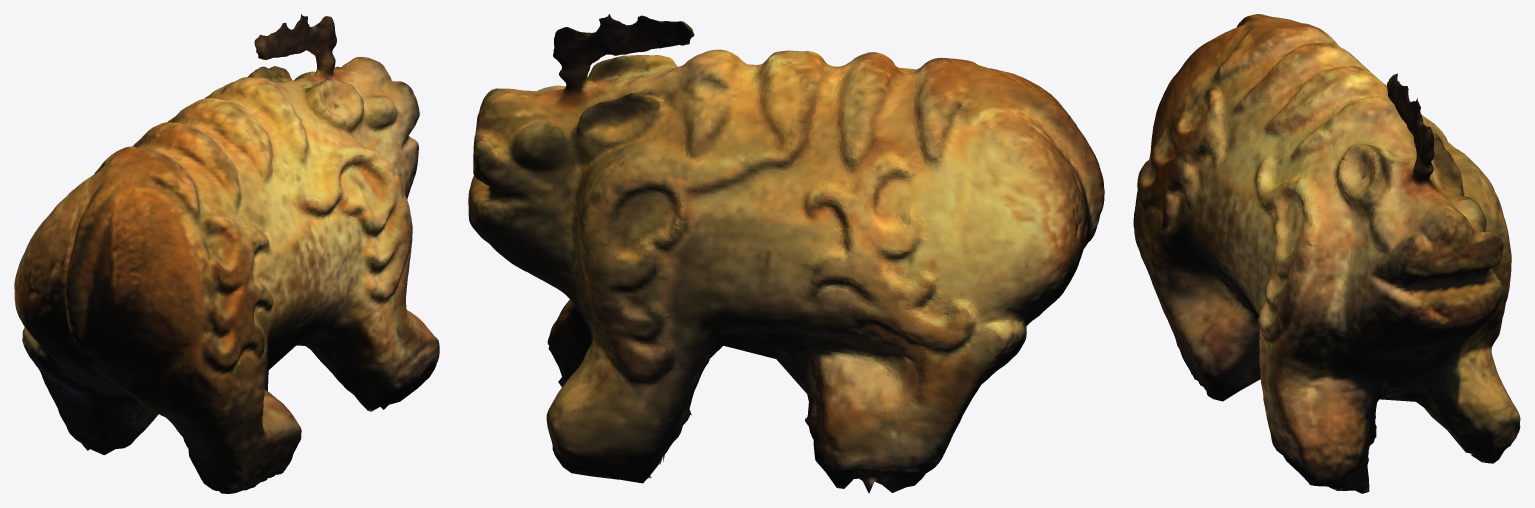
File: animal.glb
3 renders of one model, left to right at view 1: azimuth 30°, elevation 25°; view 2: azimuth 150°, elevation 25°; view 3: azimuth 270°, elevation 25°, orthographic. The views are drawn at different scales.
Visible parts, largest first — view 1: texturedMesh; view 2: texturedMesh; view 3: texturedMesh.
Part boxes in pixels (<box>): texturedMesh: <box>14,14,439,493</box>; texturedMesh: <box>468,14,1104,493</box>; texturedMesh: <box>1133,14,1520,493</box>.
Size of the model in its own units: 0.528 by 0.4177 by 0.3906.
1 material, 1 textured.
